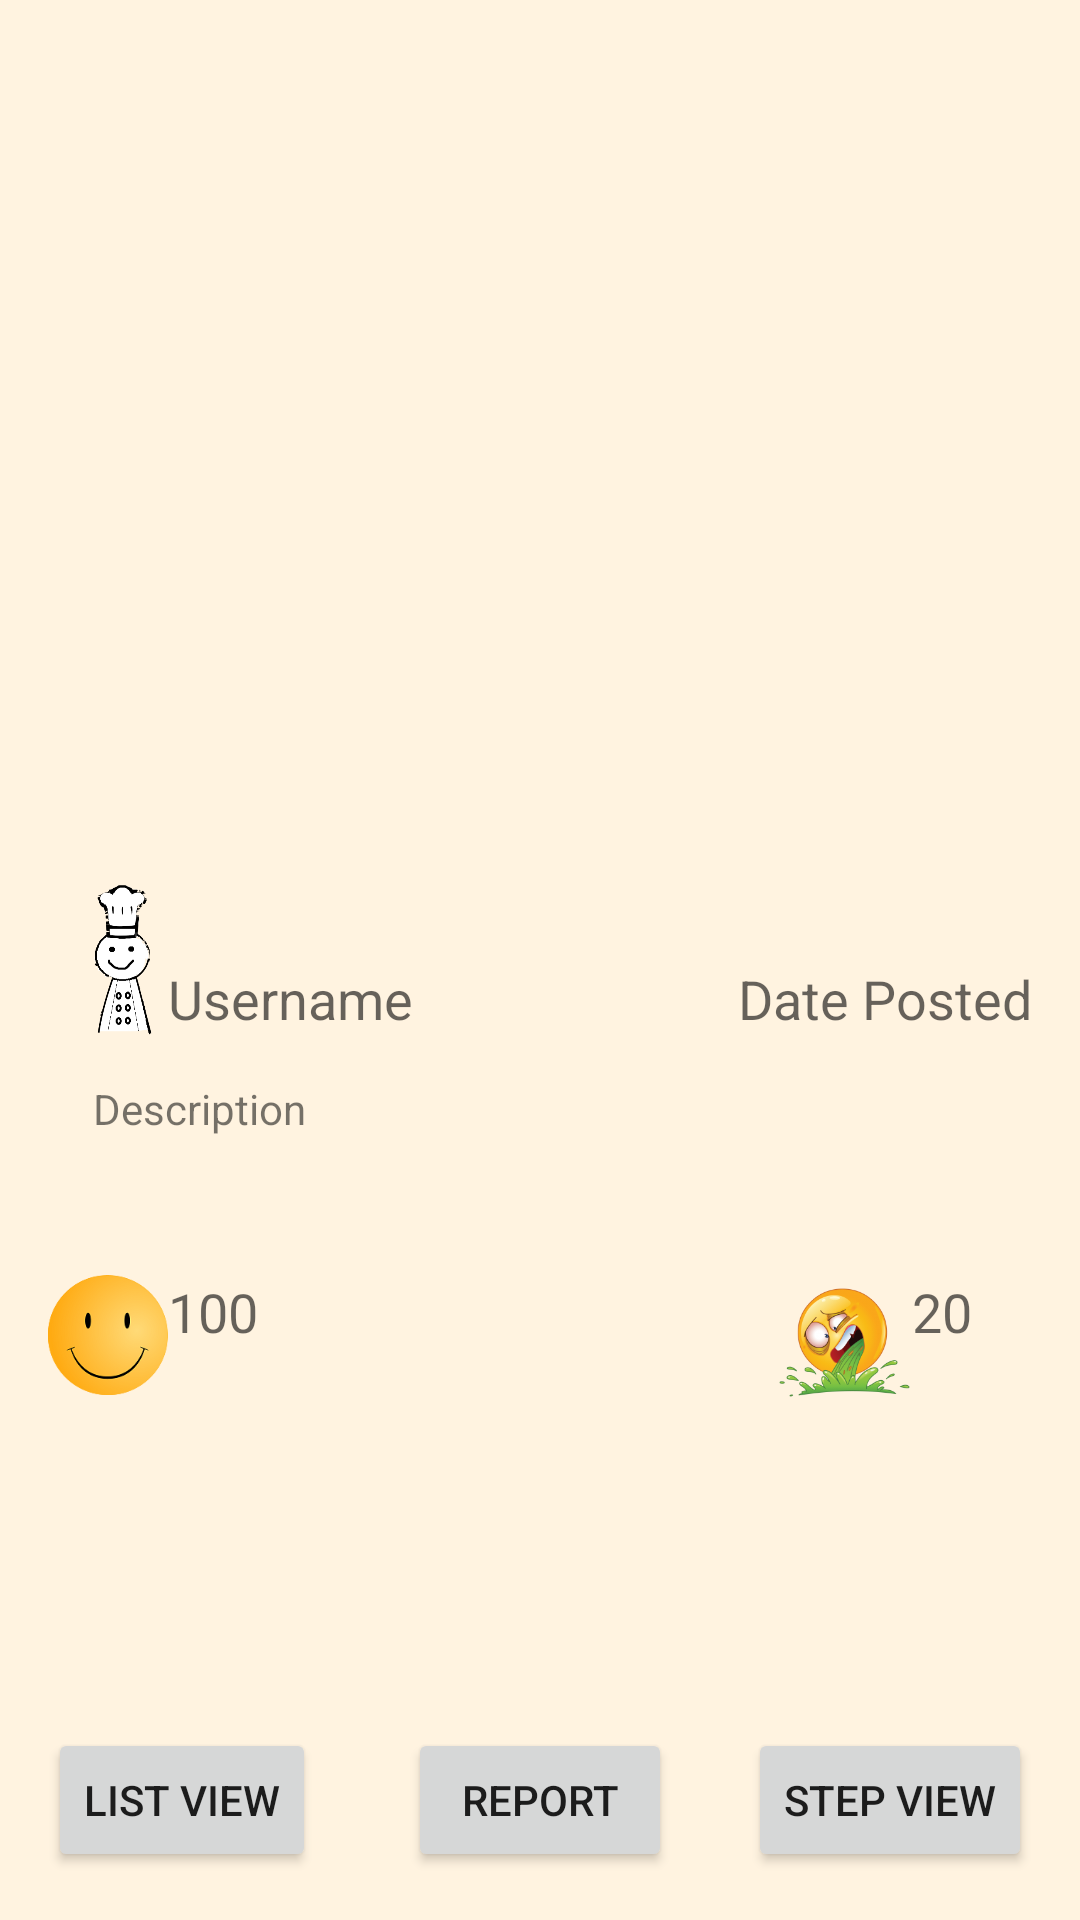

Icons on this 1080px x 1920px Android screen, each with the point to tap as point (x, y):
puker: point (844, 1342)
smileyf: point (108, 1335)
